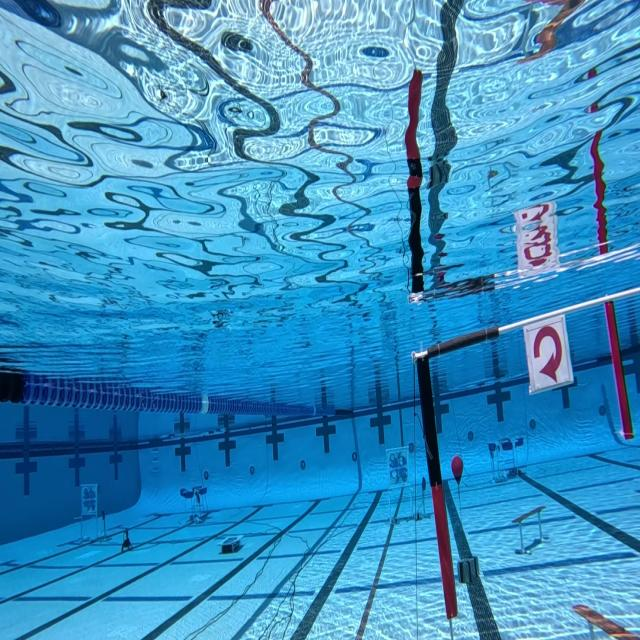red_side: (521, 313, 575, 397)
